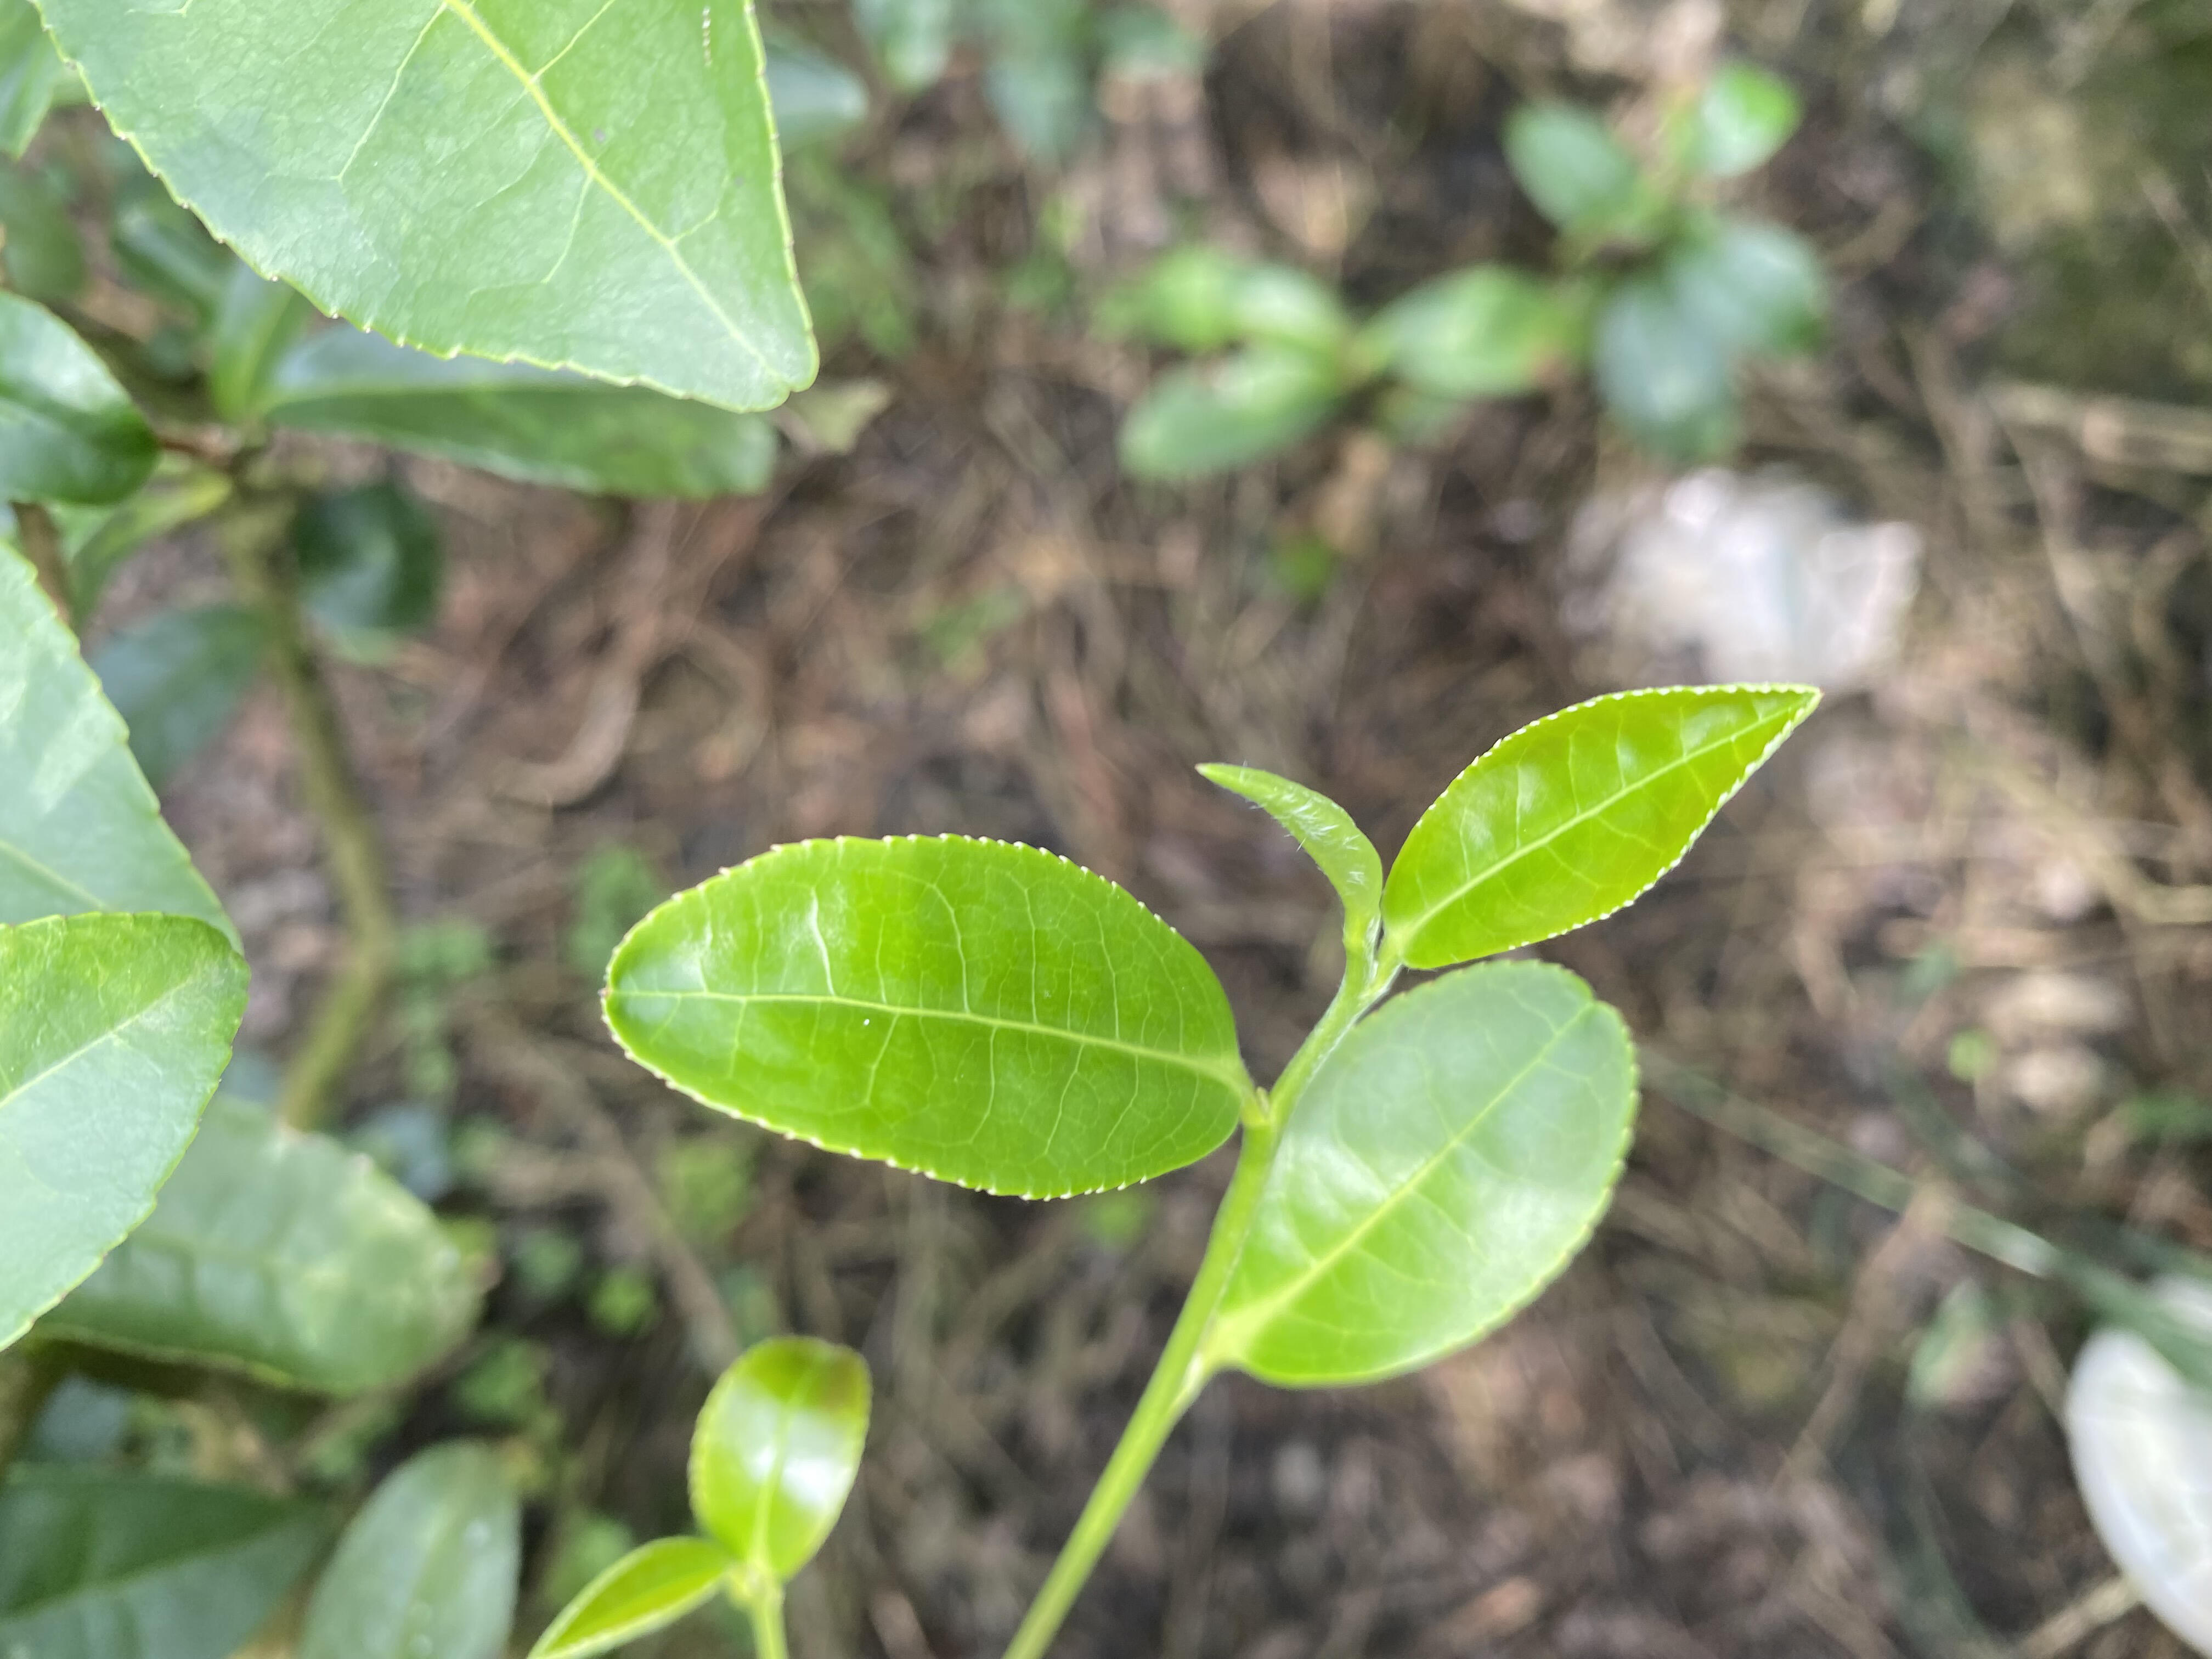healthy: (30, 3, 819, 413), (596, 831, 1247, 1204), (1217, 958, 1639, 1391), (1378, 683, 1827, 972), (2, 911, 253, 1359)
